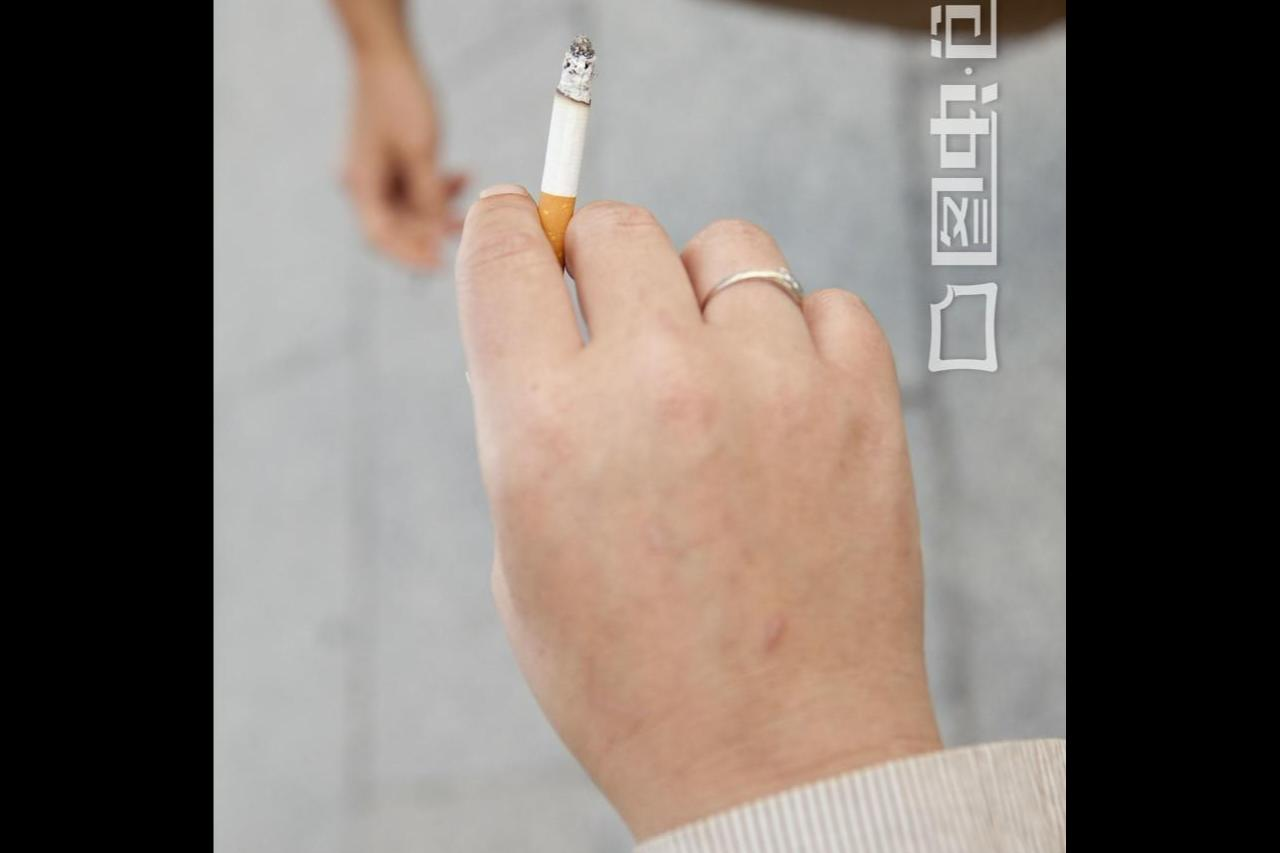Cigarette: (534, 35, 590, 262)
